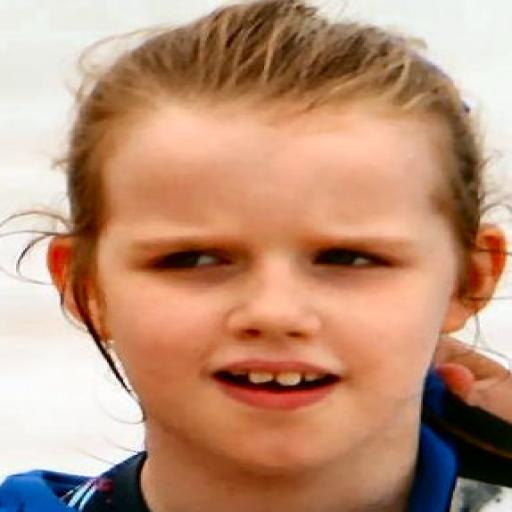Autism: (21, 13, 512, 494)
